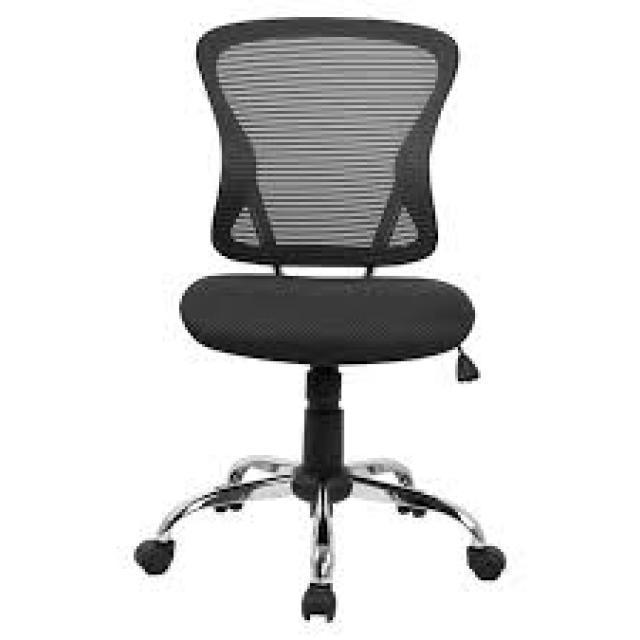chair: (82, 7, 529, 640)
